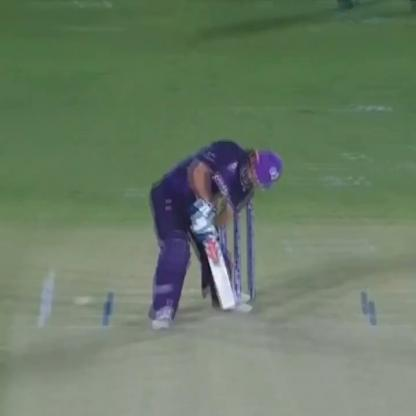ball: (235, 300, 254, 316), (236, 288, 250, 302)
bat: (189, 215, 244, 309)
pitch: (10, 274, 416, 416)
